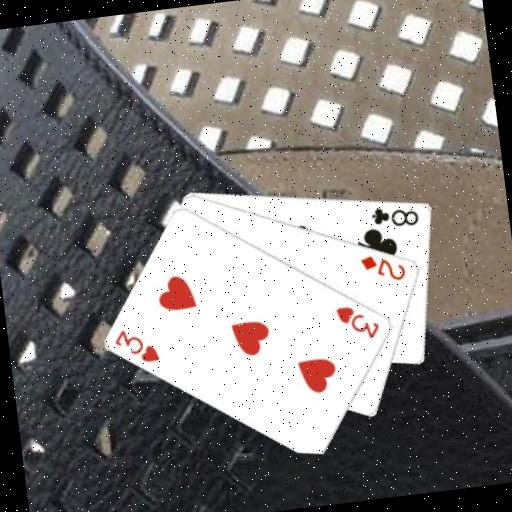2D: (357, 248, 409, 286)
3H: (110, 323, 162, 368), (333, 299, 384, 344)
8C: (367, 200, 422, 233)
